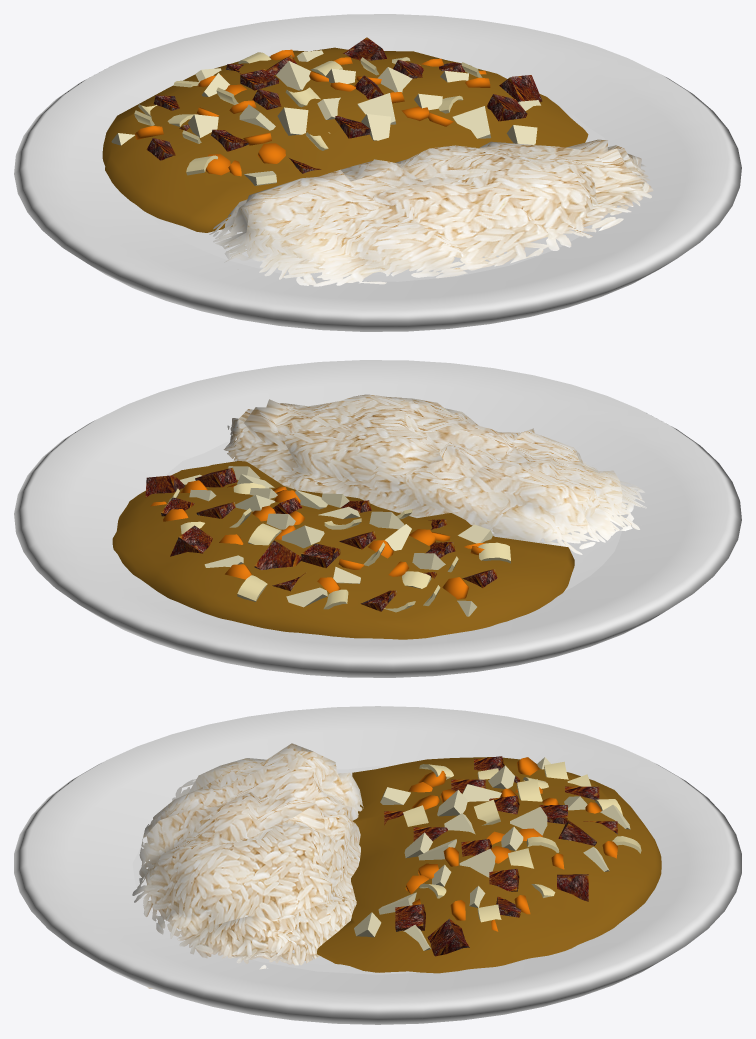
File: curry.fbx
3 renders of one model, top to bottom at view 1: azimuth 30°, elevation 25°; view 2: azimuth 150°, elevation 25°; view 3: azimuth 270°, elevation 25°, orthographic.
Visible parts, largest first — view 1: pCylinder23; view 2: pCylinder23; view 3: pCylinder23.
Part boxes in pixels (x1,y1,x2,y2): pCylinder23: (14, 14, 741, 331); pCylinder23: (14, 360, 741, 677); pCylinder23: (14, 706, 741, 1024).
Bounding box in the file's own units: 99.21 × 17.61 × 99.02.
7 materials, 2 textured.
